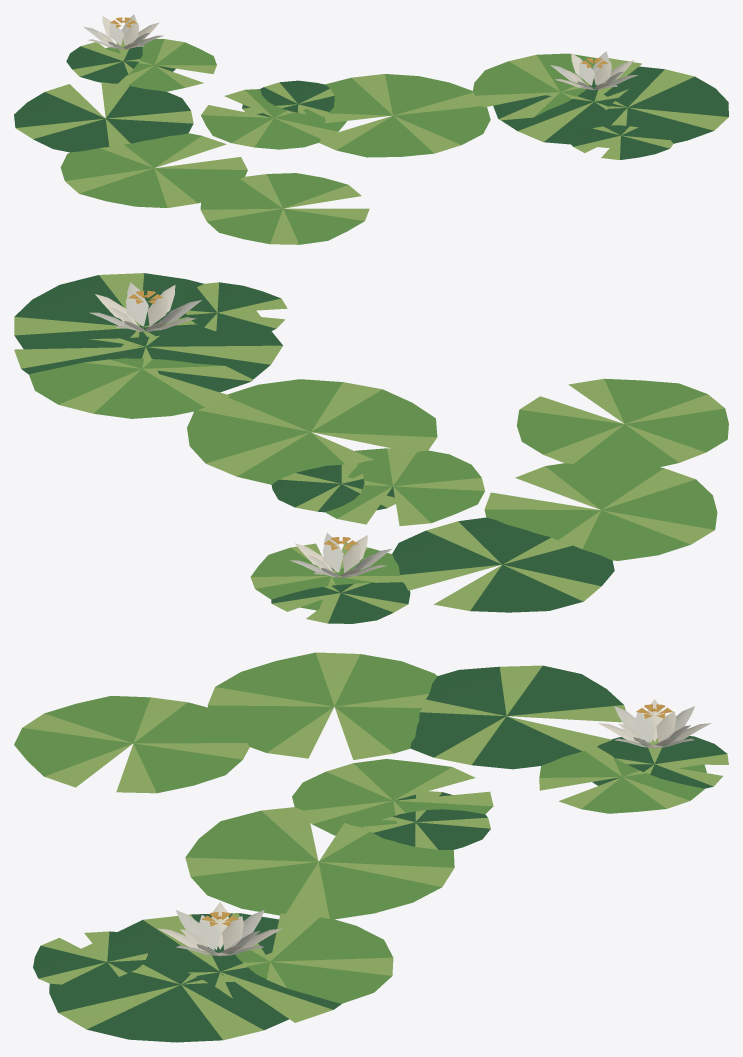
Rendered from Wetland_07_Nenufar_White.glb.
3 renders of one model, top to bottom at view 1: azimuth 30°, elevation 25°; view 2: azimuth 150°, elevation 25°; view 3: azimuth 270°, elevation 25°, orthographic. The views are drawn at different scales.
Parts seen in each view (by area): view 1: Wetland_07_Nenufar_White; view 2: Wetland_07_Nenufar_White; view 3: Wetland_07_Nenufar_White.
Part boxes in pixels (x1,y1,x2,y2): Wetland_07_Nenufar_White: (14,14,728,244); Wetland_07_Nenufar_White: (14,273,728,623); Wetland_07_Nenufar_White: (14,652,728,1042).
Size of the model in its own units: 2.67 by 0.181 by 2.07.
